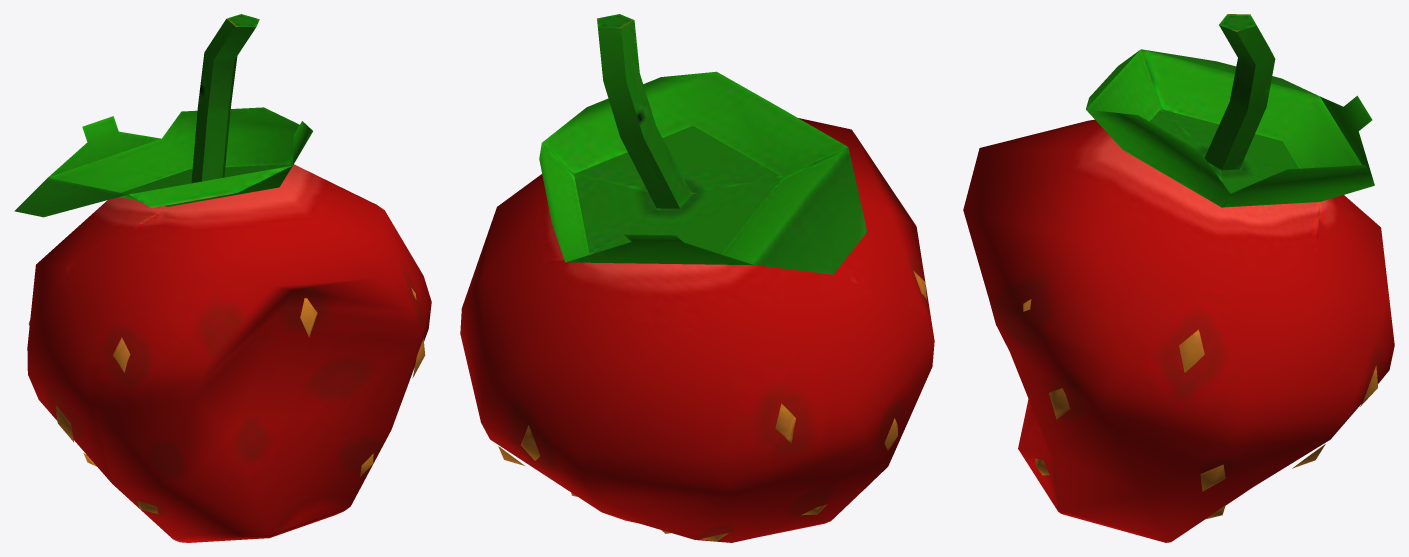
File: hat_strawberry.glb
3 views of the same model, side by side, from view 1: azimuth 30°, elevation 25°; view 2: azimuth 150°, elevation 25°; view 3: azimuth 270°, elevation 25° (orthographic). The views are drawn at different scales.
Parts seen in each view (by area): view 1: strawberry; view 2: strawberry; view 3: strawberry.
Part boxes in pixels (bbox=[...]): strawberry: bbox=[14, 14, 431, 542]; strawberry: bbox=[460, 14, 934, 542]; strawberry: bbox=[963, 14, 1394, 542].
Bounding box in the file's own units: 6.59 × 8.41 × 6.42.
Materials: 1 (1 with a texture image).
